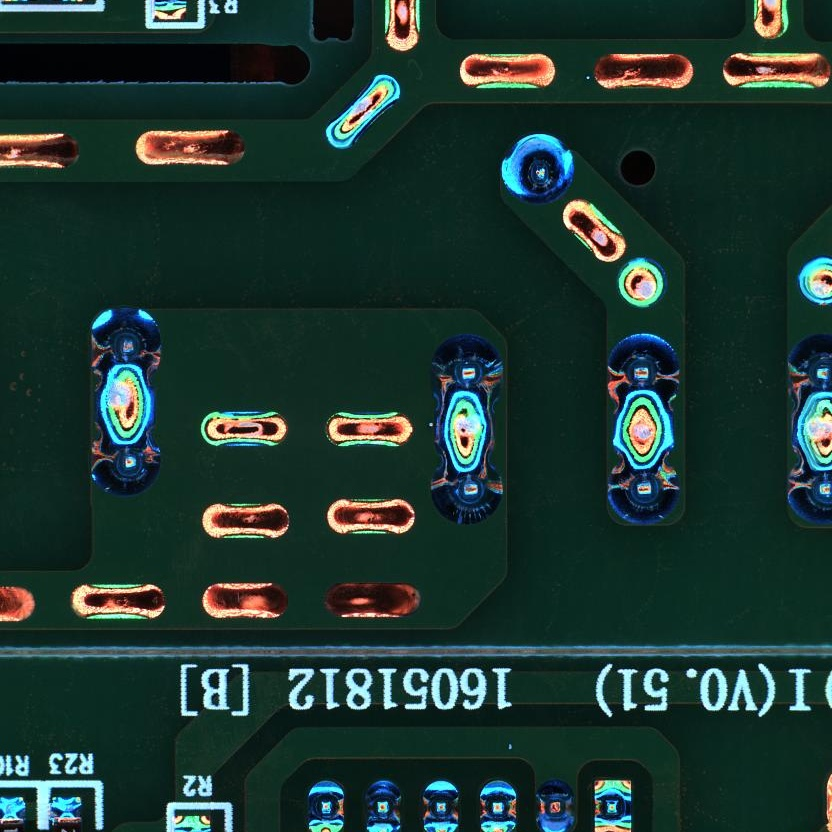spot: (603, 332, 681, 410), (86, 304, 163, 382), (500, 131, 575, 204), (430, 333, 505, 405), (608, 457, 683, 528), (428, 460, 505, 526), (88, 432, 165, 497), (784, 332, 832, 404), (784, 459, 832, 525), (616, 257, 669, 311), (476, 778, 519, 832), (591, 778, 634, 832), (304, 779, 346, 832), (535, 779, 576, 832), (421, 779, 461, 832), (363, 779, 402, 832), (798, 257, 832, 306)
